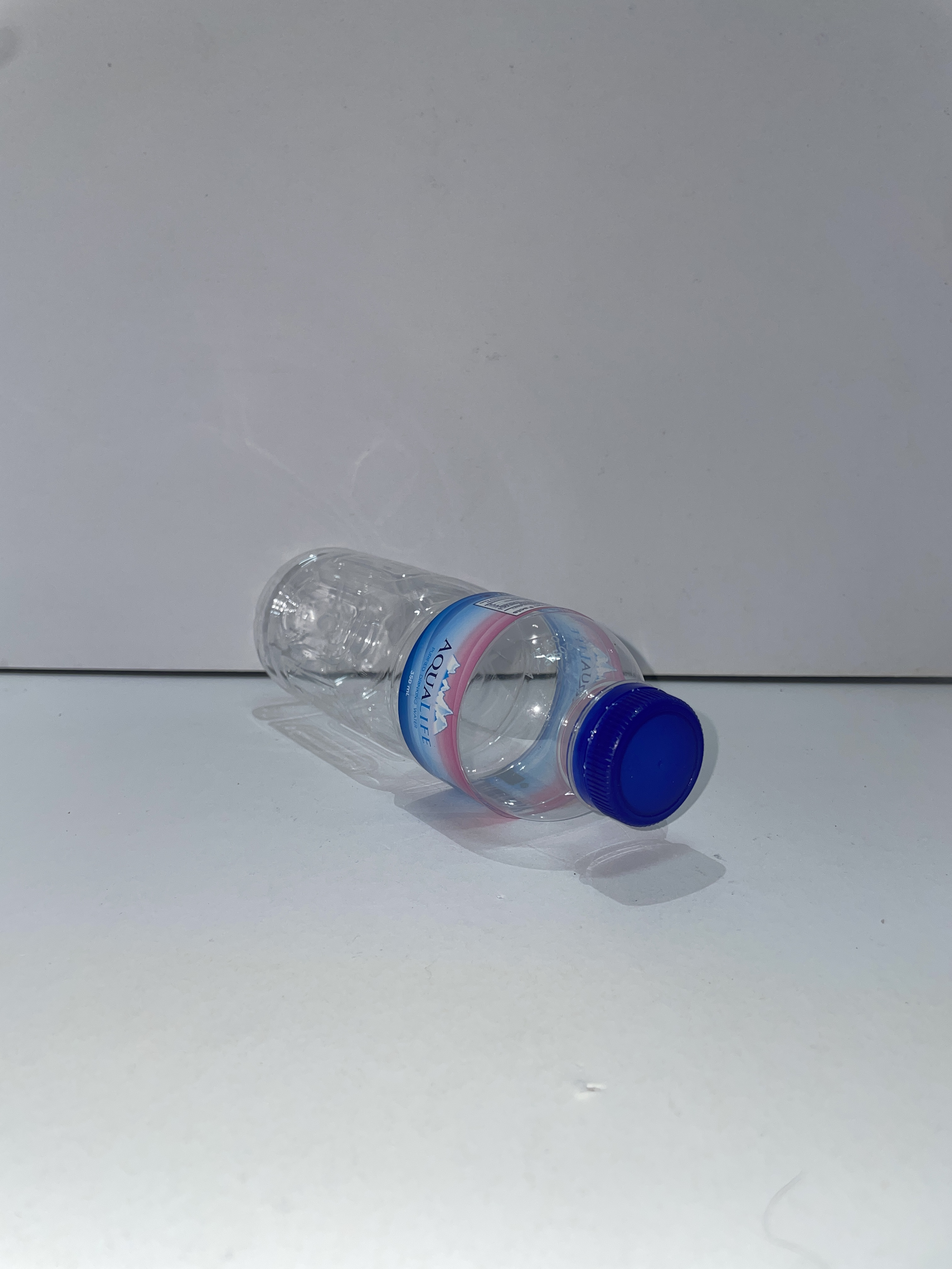Aqua Life 350ml: (254, 547, 704, 827)
